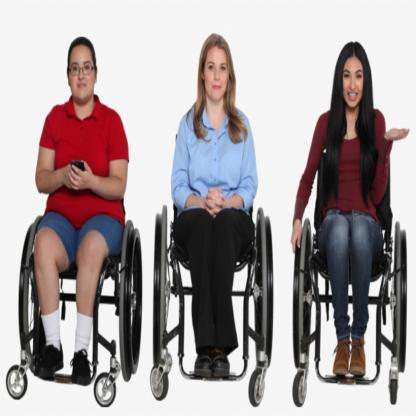wheelchair: (15, 29, 144, 408), (154, 33, 273, 406), (290, 36, 408, 408)
